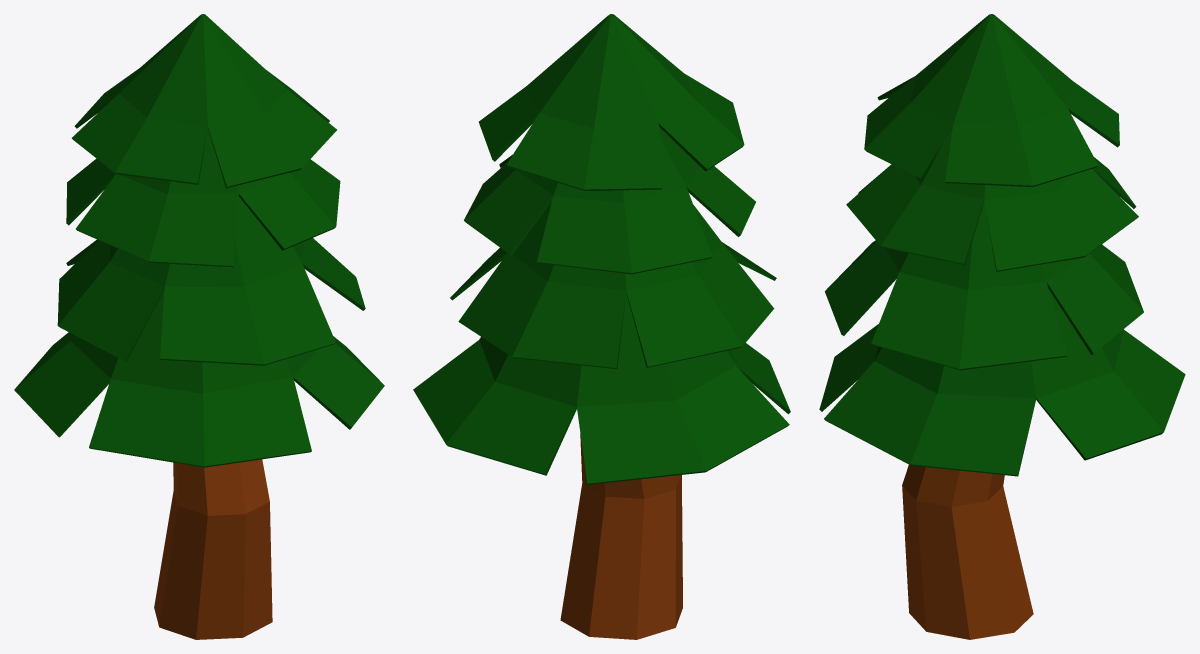
Rendered from Arvore02.fbx.
The picture shows the model from 3 angles, left to right: view 1: azimuth 30°, elevation 25°; view 2: azimuth 150°, elevation 25°; view 3: azimuth 270°, elevation 25°; orthographic projection. The views are drawn at different scales.
Parts seen in each view (by area): view 1: ramos.010; view 2: ramos.010; view 3: ramos.010.
Part boxes in pixels (x1,y1,x2,y2): ramos.010: (14, 14, 384, 639); ramos.010: (413, 14, 790, 639); ramos.010: (819, 14, 1185, 639).
Bounding box in the file's own units: 415 × 743 × 412.
